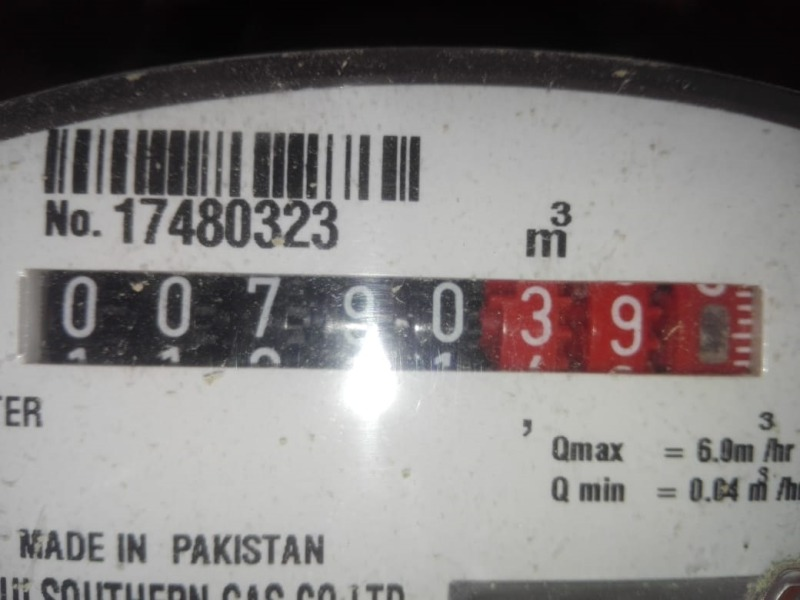ssgc: (10, 266, 767, 380)
